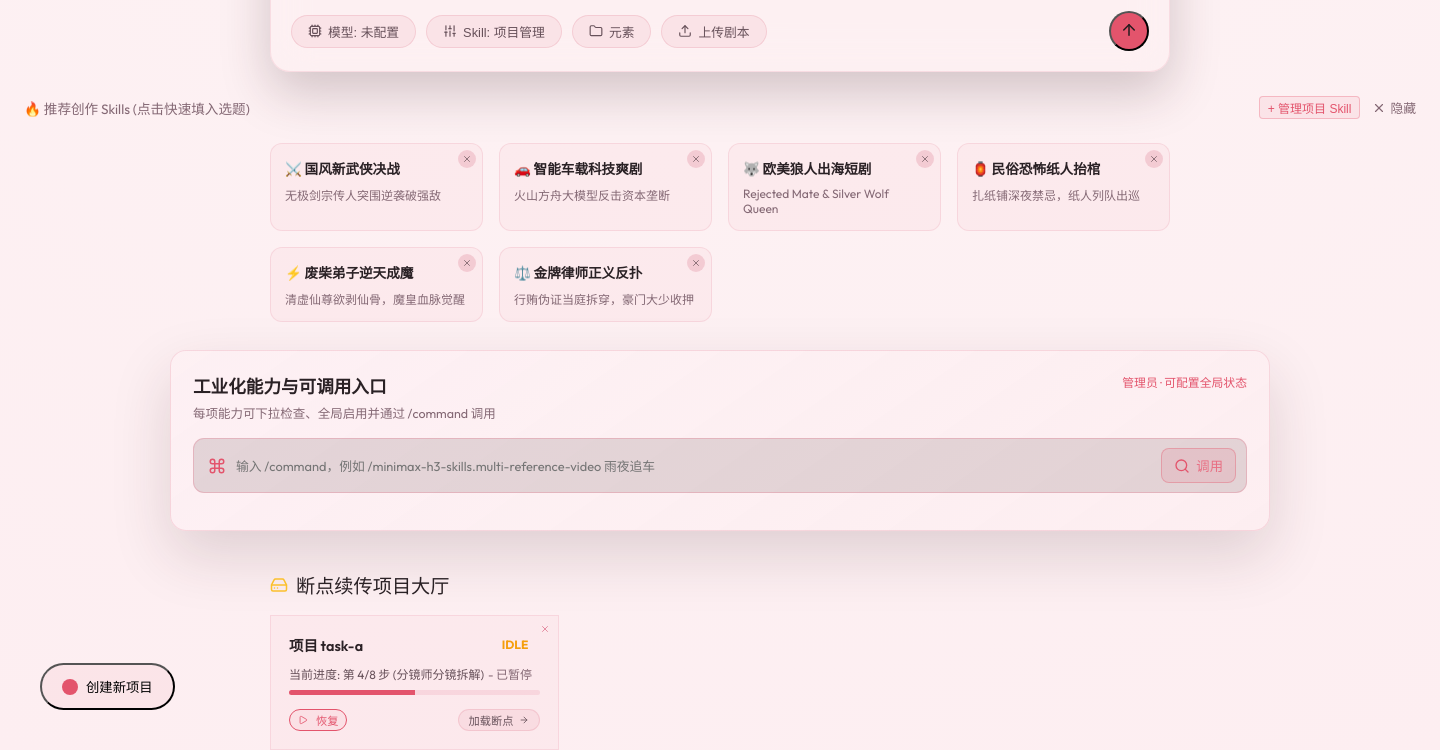
Test: App follows the server workflow › restores dialogue and continues incomplete stage 4 through the assistant, not stage 5
(page scrolled)
Click the text "项目 task-a" at (326, 644), box [289,634,363,655]
(page scrolled)
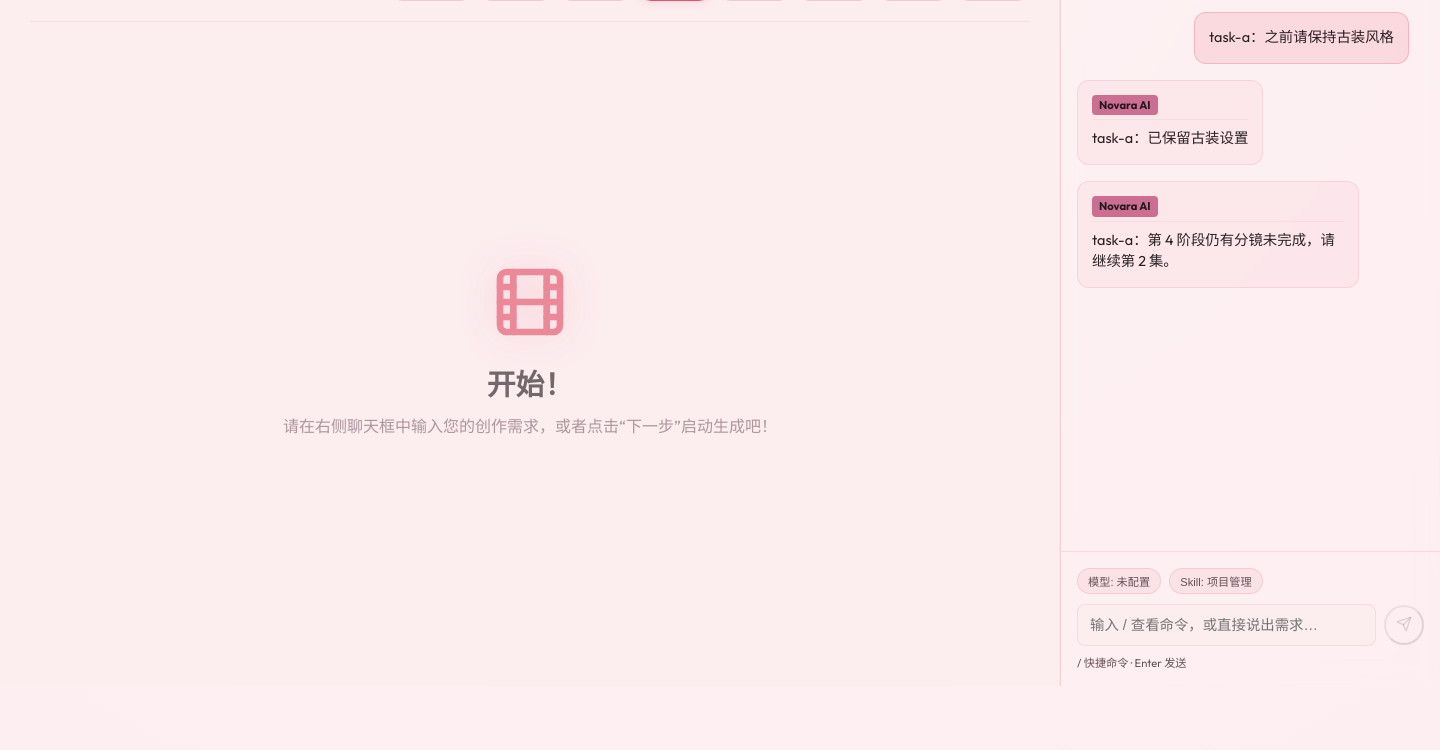
Expected: the text "task-a：之前请保持古装风格" is shown, [1209,27,1394,49]
Type "/" into the field named "发送给" at (1226, 625), box [1077,604,1376,646]
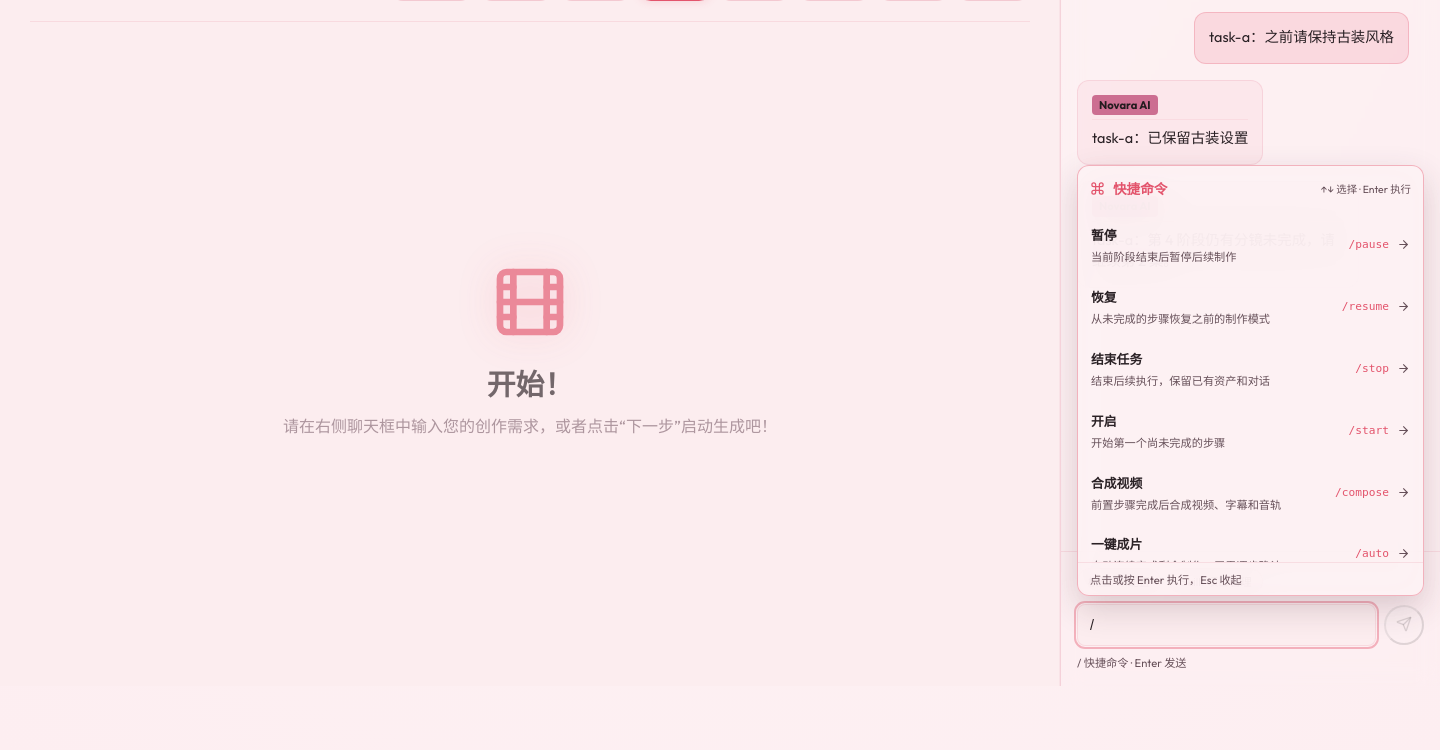
Press Arrowdown Arrowdown Enter
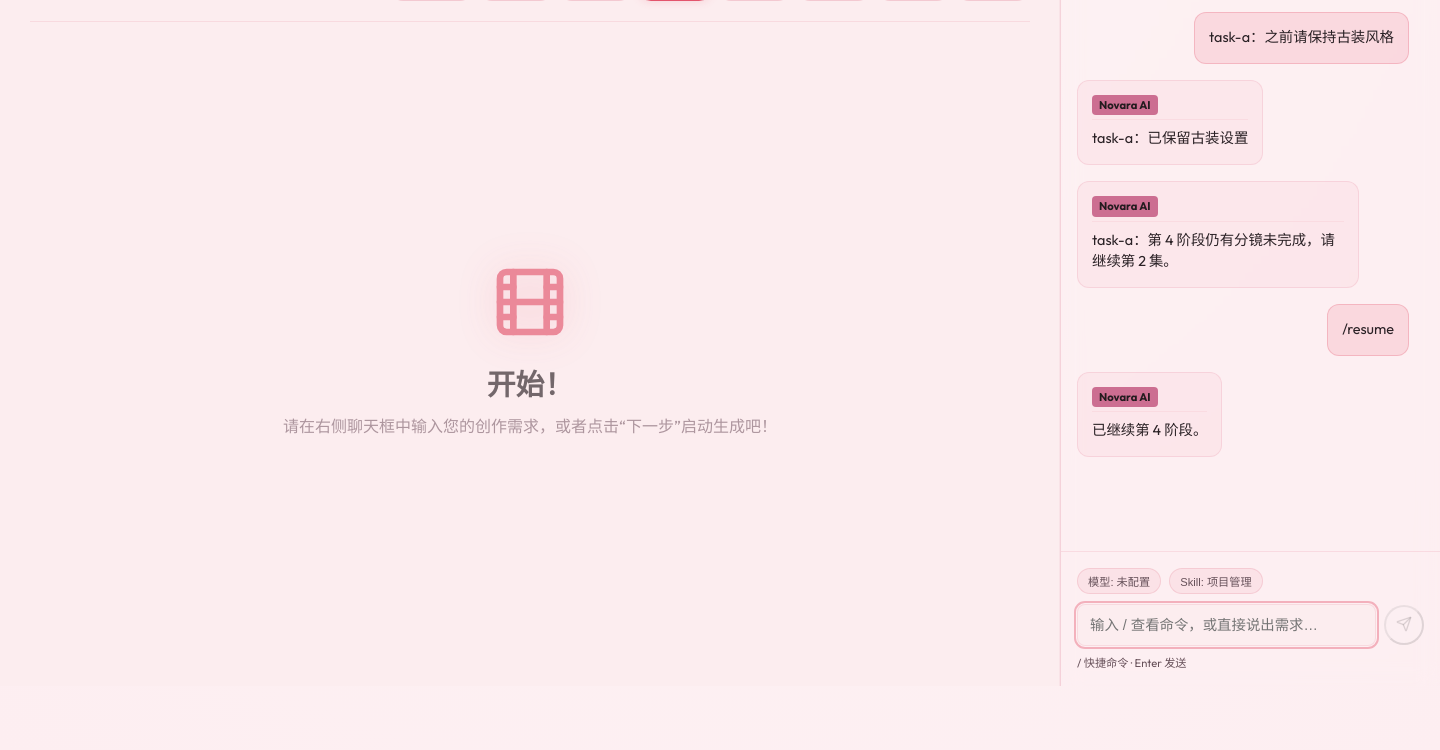
Expected: the text "已继续第 4 阶段。" is shown, [1092,420,1207,442]
Expected: the text "/resume" is shown once, [1342,319,1394,341]
